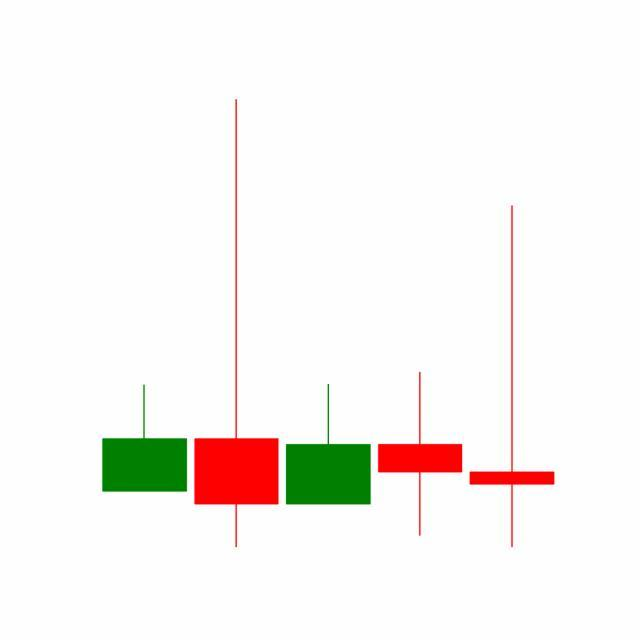Spinning Top: (374, 371, 468, 539)
